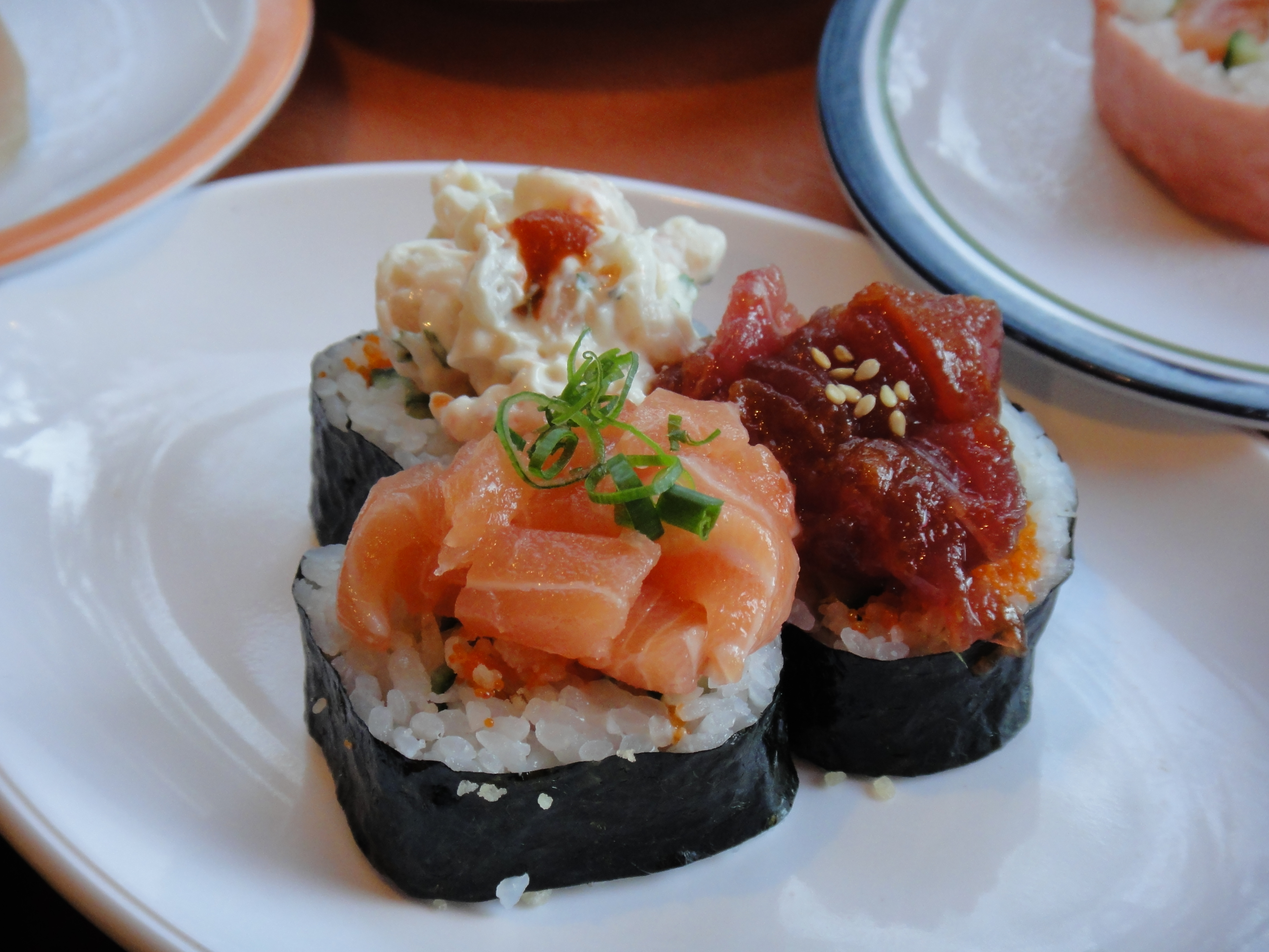sushi: (297, 424, 777, 917), (650, 268, 1079, 768), (308, 163, 735, 550), (1093, 0, 1268, 244)
